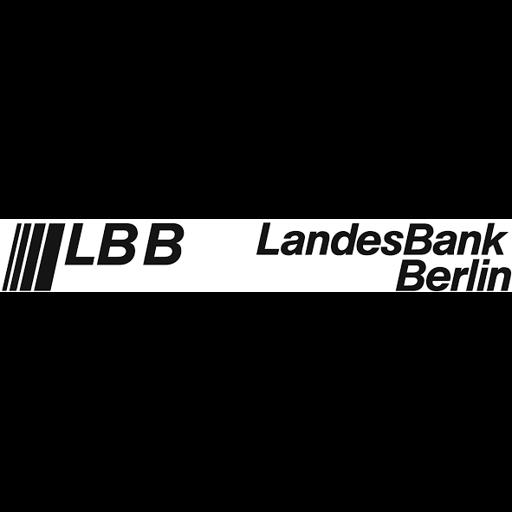Landesbank Berlin AG: (0, 219, 512, 292)
